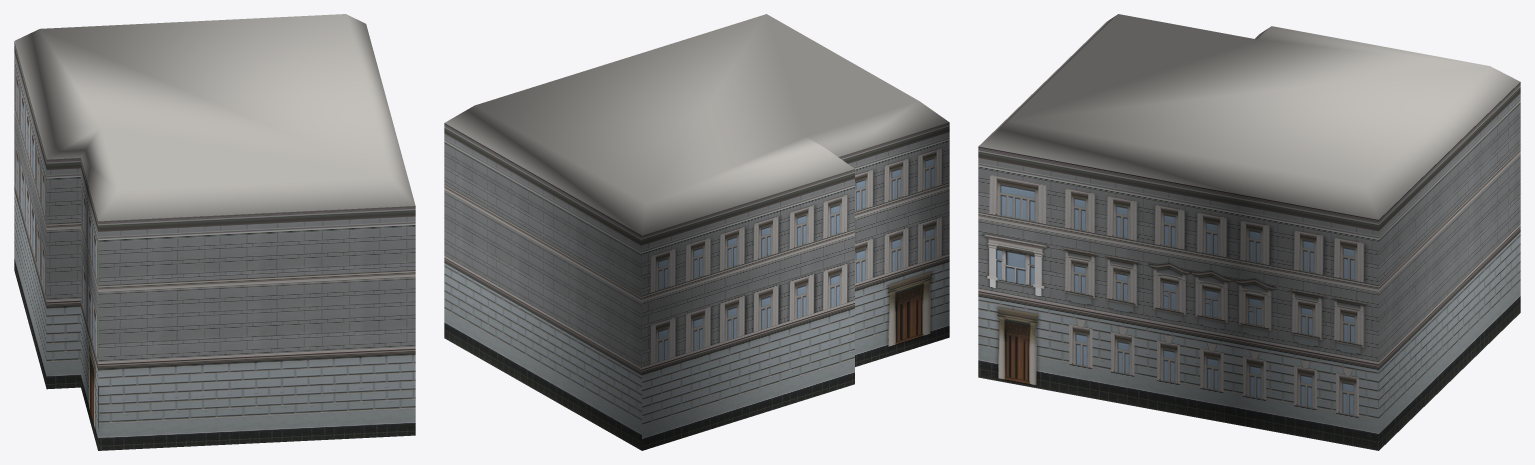
Rendered from lp-building10.fbx.
3 views of the same model, side by side, from view 1: azimuth 30°, elevation 25°; view 2: azimuth 150°, elevation 25°; view 3: azimuth 270°, elevation 25° (orthographic). The views are drawn at different scales.
Parts seen in each view (by area): view 1: 01houses.011; view 2: 01houses.011; view 3: 01houses.011.
Part boxes in pixels (bbox=[...]): 01houses.011: bbox=[14, 14, 415, 450]; 01houses.011: bbox=[444, 14, 949, 450]; 01houses.011: bbox=[978, 14, 1520, 450].
Bounding box in the file's own units: 797 × 472 × 921.
Materials: 1 (1 with a texture image).
